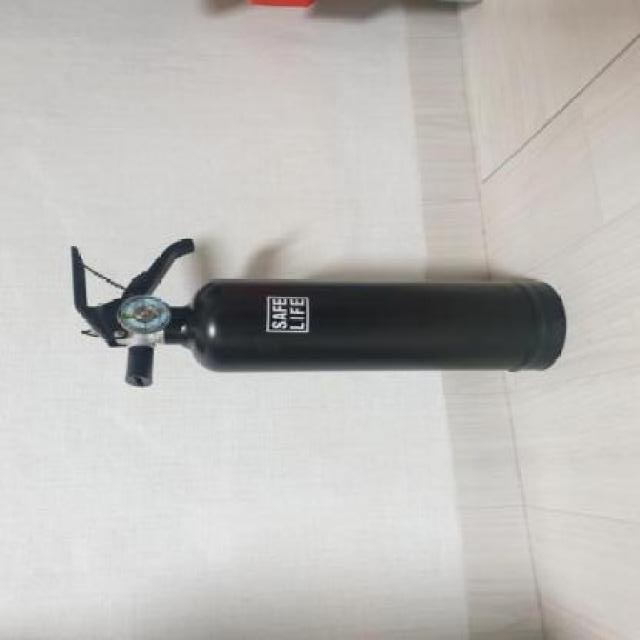fire extinguisher: (69, 238, 568, 387)
